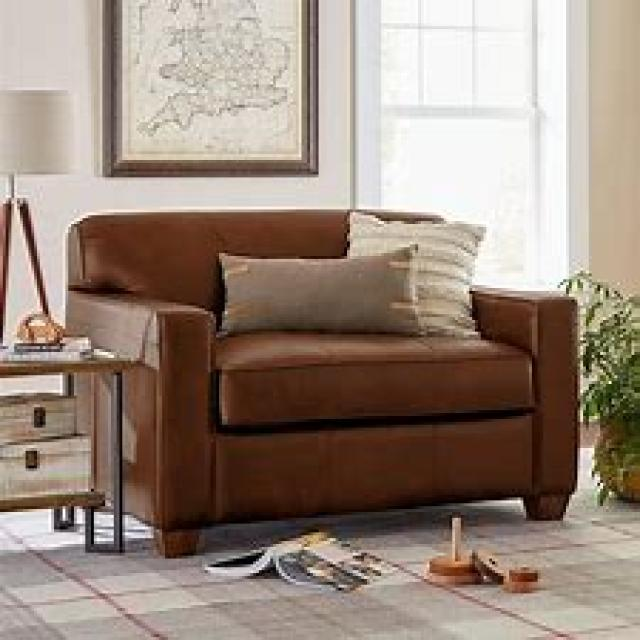chair: (57, 206, 577, 558)
